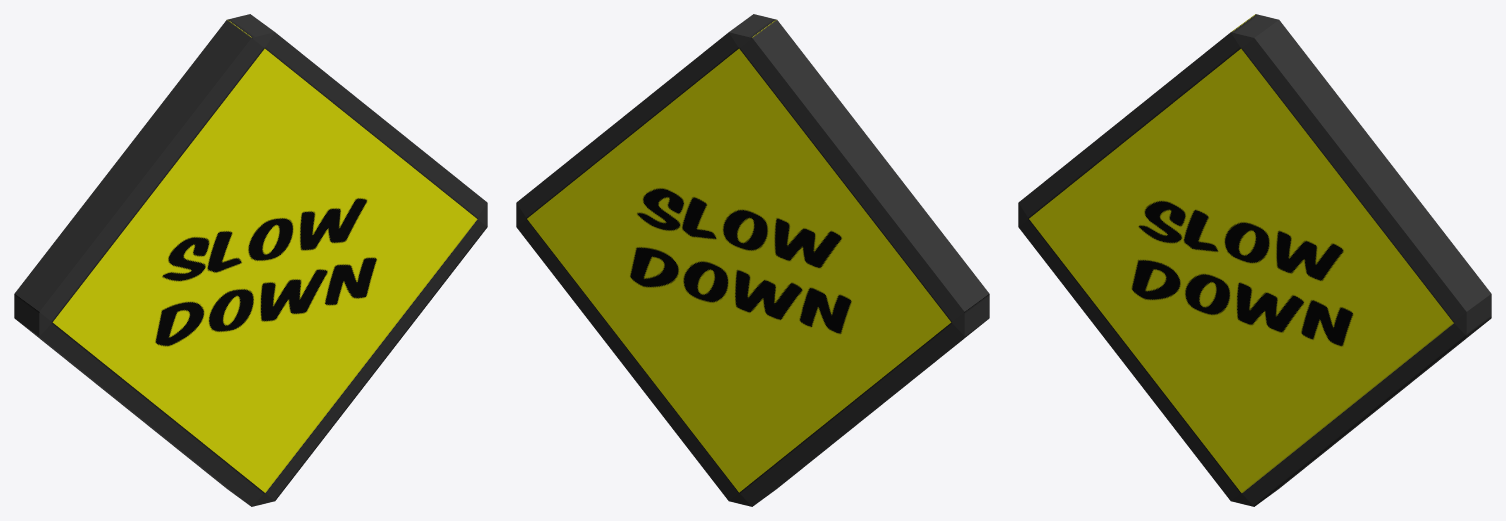
File: Slow Down Sign.fbx
3 renders of one model, left to right at view 1: azimuth 30°, elevation 25°; view 2: azimuth 150°, elevation 25°; view 3: azimuth 330°, elevation 25°, orthographic.
Visible parts, largest first — view 1: Cube; view 2: Cube; view 3: Cube.
Part boxes in pixels (x1,y1,x2,y2): Cube: (14, 14, 487, 506); Cube: (516, 14, 989, 506); Cube: (1018, 14, 1491, 506).
Bounding box in the file's own units: 468 × 468 × 50.
